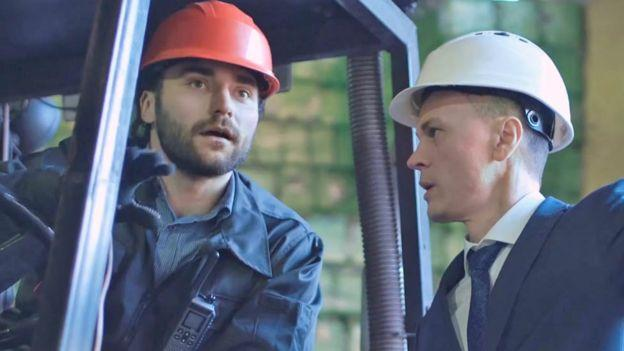helmet: (390, 29, 581, 150), (133, 1, 282, 97)
